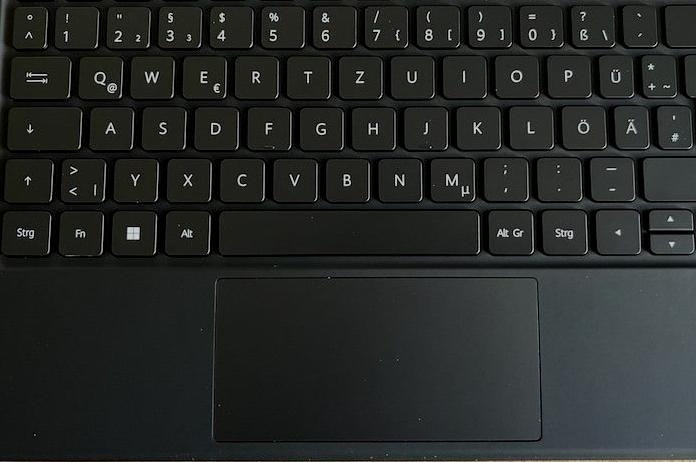0: (515, 1, 563, 47)
1: (52, 4, 98, 48)
2: (103, 3, 150, 48)
3: (154, 3, 201, 48)
4: (207, 3, 252, 48)
5: (257, 2, 304, 48)
6: (309, 2, 356, 48)
7: (361, 2, 408, 49)
8: (412, 2, 459, 48)
9: (464, 2, 511, 48)
a: (87, 103, 134, 150)
accent: (620, 1, 656, 46)
ae: (612, 101, 649, 148)
alt-left: (161, 207, 210, 255)
altgr-right: (485, 206, 533, 255)
b: (322, 155, 370, 201)
c: (217, 155, 265, 202)
caret: (10, 4, 47, 48)
comma: (480, 153, 528, 201)
d: (191, 103, 239, 151)
del: (663, 1, 696, 46)
e: (180, 53, 227, 99)
enter: (681, 48, 696, 147)
f: (245, 103, 291, 150)
g: (297, 103, 343, 150)
h: (349, 103, 395, 150)
hash: (655, 101, 691, 148)
i: (440, 52, 487, 97)
j: (402, 103, 448, 150)
k: (453, 102, 501, 149)
keyboard: (1, 1, 696, 274)
l: (507, 102, 553, 149)
less: (57, 155, 106, 203)
m: (427, 154, 476, 202)
minus: (587, 153, 633, 200)
n: (375, 155, 423, 201)
o: (492, 52, 539, 98)
oe: (559, 103, 607, 149)
p: (545, 52, 591, 97)
plus: (638, 50, 675, 97)
point: (534, 154, 582, 200)
q: (76, 53, 124, 100)
r: (232, 52, 279, 99)
s: (139, 103, 186, 150)
shift-left: (1, 155, 53, 203)
shift-lock: (4, 102, 81, 150)
shift-right: (639, 152, 696, 200)
space: (214, 205, 480, 255)
ss: (567, 2, 614, 47)
strg-left: (1, 207, 52, 256)
strg-right: (539, 206, 588, 254)
t: (284, 53, 330, 98)
tab: (7, 53, 71, 99)
u: (388, 52, 435, 99)
ue: (596, 51, 633, 97)
v: (270, 155, 319, 201)
w: (128, 52, 174, 99)
x: (164, 155, 212, 202)
y: (111, 155, 159, 202)
z: (336, 52, 383, 98)
